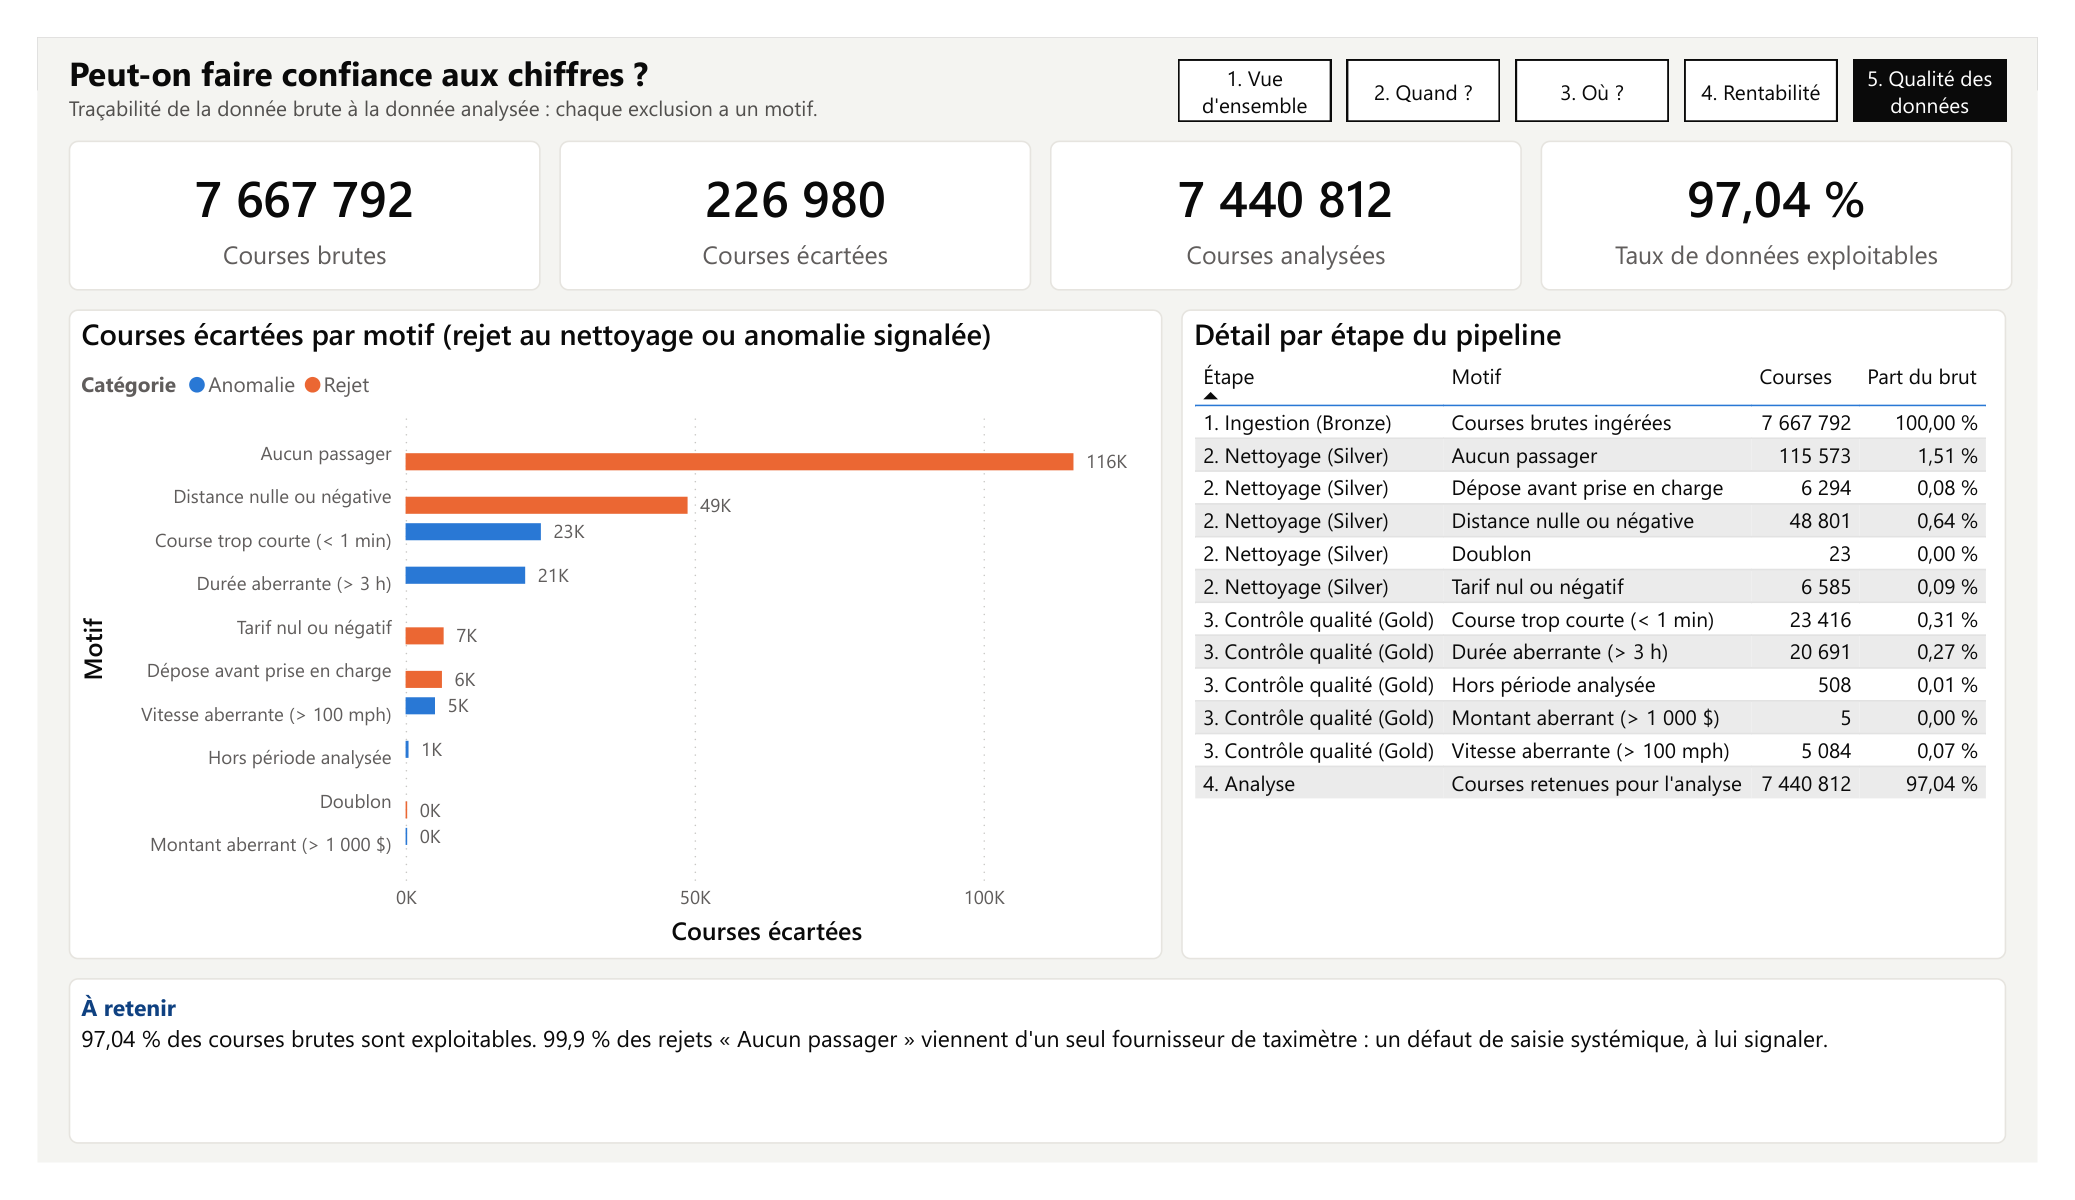

Layout of this report page (visuals, bound fields, positions):
{"tool":"powerbi","page":{"name":"5. Qualité des données","canvas":[1280,720],"ordinal":4},"visuals":[{"type":"textbox","box":[20,8,700,52],"z":0},{"type":"pageNavigator","box":[730,14,530,40],"z":1000},{"type":"card","fields":{"Values":["_Mesures.Courses brutes"]},"box":[20,66,302,96],"z":2000},{"type":"card","fields":{"Values":["_Mesures.Courses écartées"]},"box":[334,66,302,96],"z":3000},{"type":"card","fields":{"Values":["_Mesures.Courses analysées"]},"box":[648,66,302,96],"z":4000},{"type":"card","fields":{"Values":["_Mesures.Taux de données exploitables"]},"box":[962,66,302,96],"z":5000},{"type":"clusteredBarChart","title":"Courses écartées par motif (rejet au nettoyage ou anomalie signalée)","fields":{"Category":["data_quality.Motif"],"Series":["data_quality.Catégorie"],"Y":["_Mesures.Rejets et anomalies"]},"box":[20,174,700,416],"z":6000},{"type":"tableEx","title":"Détail par étape du pipeline","fields":{"Values":["data_quality.Étape","data_quality.Motif","_Mesures.Courses (étape)","_Mesures.Part des courses brutes"]},"box":[732,174,528,416],"z":7000},{"type":"textbox","box":[20,602,1240,106],"z":8000}]}

Visuals, with their boxes on the page's 1280x720 design canvas (x1, y1, x2, y2). These are canvas units, not pixel positions in the 2075x1200 screenshot, which may show the page scaled, cropped or inside an application window:
textbox: select_region(20, 8, 720, 60)
pageNavigator: select_region(730, 14, 1260, 54)
card - _Mesures.Courses brutes: select_region(20, 66, 322, 162)
card - _Mesures.Courses écartées: select_region(334, 66, 636, 162)
card - _Mesures.Courses analysées: select_region(648, 66, 950, 162)
card - _Mesures.Taux de données exploitables: select_region(962, 66, 1264, 162)
"Courses écartées par motif (rejet au nettoyage ou anomalie signalée)" clusteredBarChart: select_region(20, 174, 720, 590)
"Détail par étape du pipeline" tableEx: select_region(732, 174, 1260, 590)
textbox: select_region(20, 602, 1260, 708)
